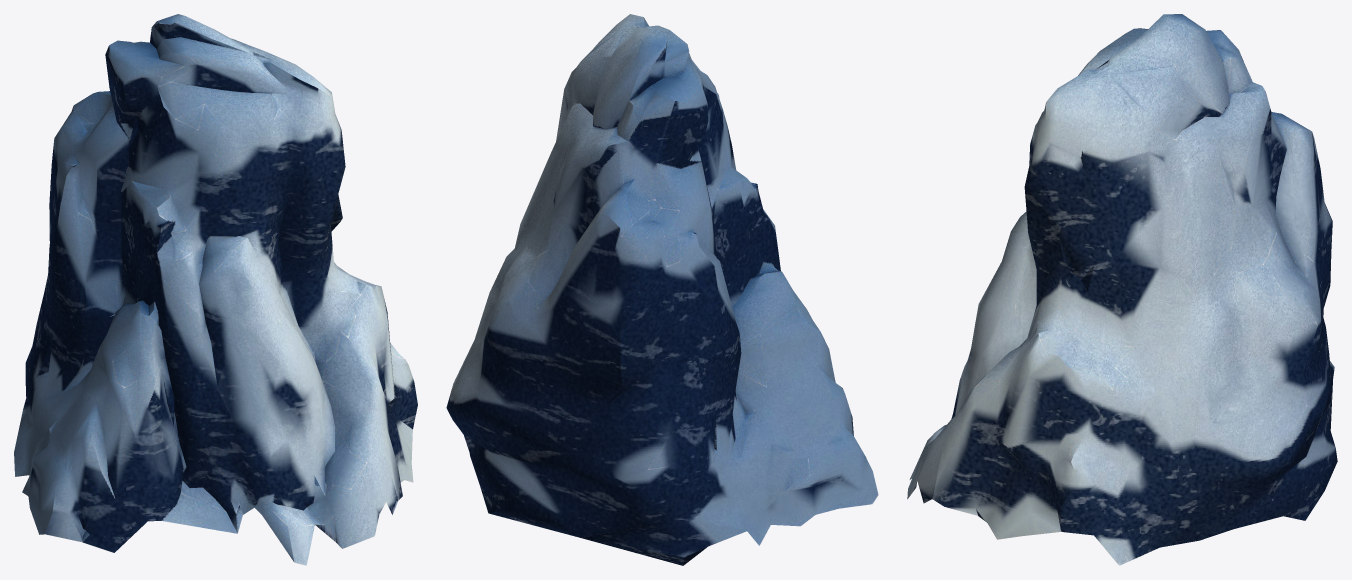
Rendered from mountainv1.gltf.
3 renders of one model, left to right at view 1: azimuth 30°, elevation 25°; view 2: azimuth 150°, elevation 25°; view 3: azimuth 270°, elevation 25°, orthographic. The views are drawn at different scales.
Visible parts, largest first — view 1: mountain; view 2: mountain; view 3: mountain.
Boxes of the visible parts, x1,y1,x2,y2 form: mountain: (14,14,417,565); mountain: (446,14,878,565); mountain: (907,14,1337,565).
Size of the model in its own units: 259 by 306 by 255.
1 material, 1 textured.
